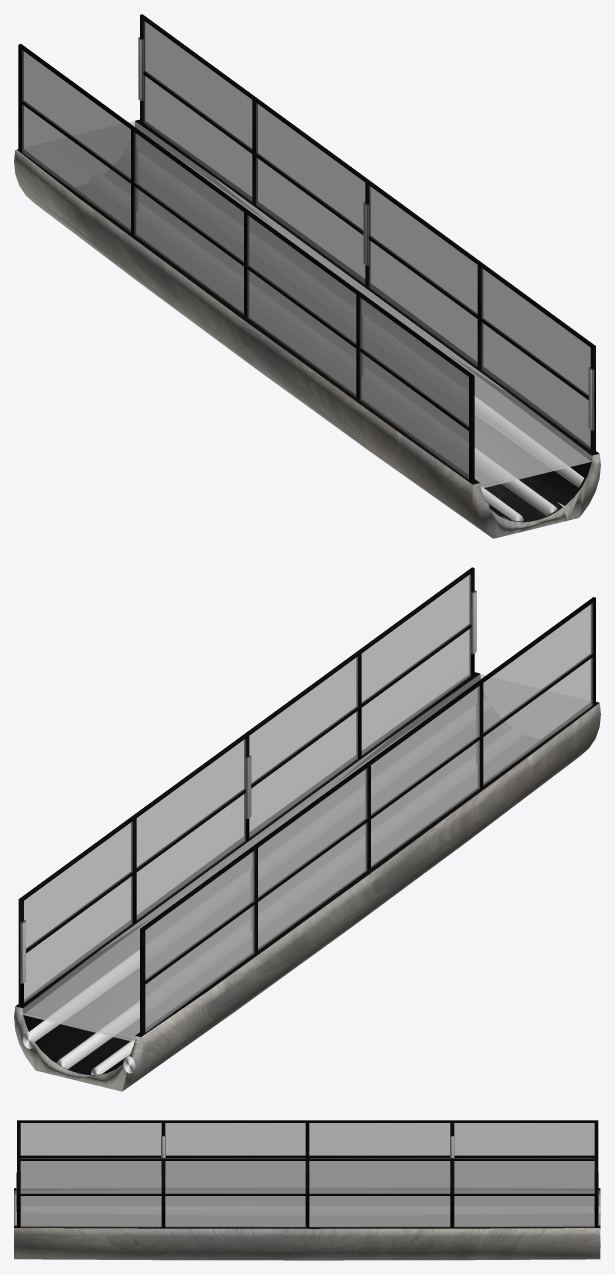
Rendered from passarellaMod.fbx.
3 views of the same model, one above another, from view 1: azimuth 30°, elevation 25°; view 2: azimuth 150°, elevation 25°; view 3: azimuth 270°, elevation 25° (orthographic). The views are drawn at different scales.
Visible parts, largest first — view 1: Cube_001, Cube_000, Cube_002, Sphere_001, Cubo_002, Cubo_022, Cilindro, Cilindro_003; view 2: Cube_001, Cube_000, Cube_002, Sphere_001, Cubo_002, Cubo_022, Cilindro, Cilindro_003; view 3: Cube_002, Cube_000, Sphere_001, Cube_001, Cubo_022, Cubo_002.
Part boxes in pixels (bbox=[...]): Cube_001: bbox=[24, 121, 591, 488]; Cube_000: bbox=[22, 50, 468, 479]; Cube_002: bbox=[143, 21, 590, 449]; Sphere_001: bbox=[14, 119, 600, 538]; Cubo_002: bbox=[18, 44, 474, 482]; Cubo_022: bbox=[140, 14, 595, 452]; Cilindro: bbox=[475, 397, 583, 487]; Cilindro_003: bbox=[475, 448, 557, 515]; Cube_001: bbox=[20, 674, 589, 1043]; Cube_000: bbox=[145, 603, 592, 1032]; Cube_002: bbox=[24, 574, 470, 1002]; Sphere_001: bbox=[14, 672, 600, 1091]; Cubo_002: bbox=[140, 597, 595, 1035]; Cubo_022: bbox=[18, 567, 474, 1005]; Cilindro: bbox=[23, 950, 139, 1048]; Cilindro_003: bbox=[57, 1001, 139, 1069]; Cube_002: bbox=[20, 1161, 594, 1227]; Cube_000: bbox=[20, 1123, 594, 1188]; Sphere_001: bbox=[14, 1188, 600, 1260]; Cube_001: bbox=[14, 1189, 600, 1230]; Cubo_022: bbox=[17, 1158, 598, 1227]; Cubo_002: bbox=[17, 1120, 598, 1158].
Bounding box in the file's own units: 5.13 × 5.99 × 30.02.
